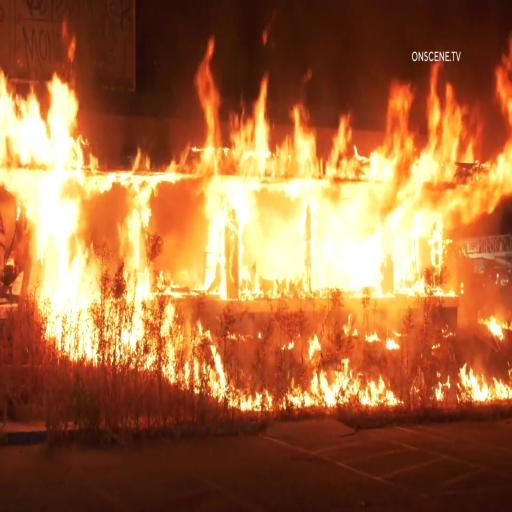fire: (273, 72, 459, 316), (0, 40, 92, 350), (105, 144, 195, 387), (195, 47, 277, 311), (194, 314, 406, 414)
